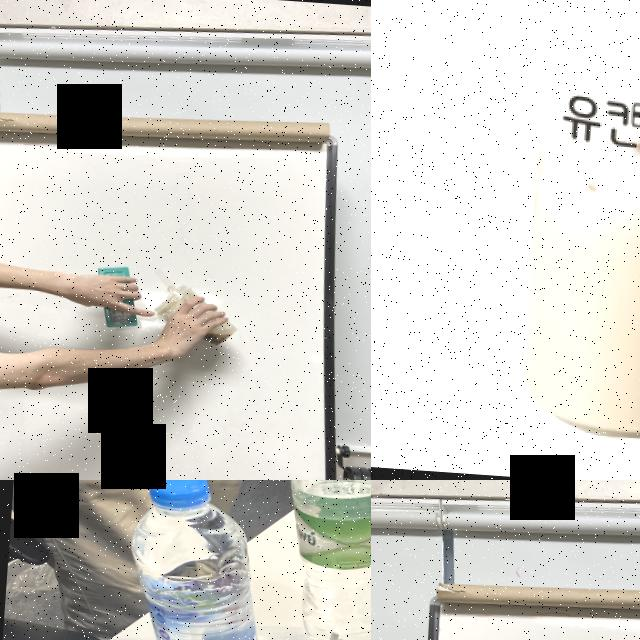bottle: (112, 480, 287, 640), (279, 480, 371, 640)
can: (510, 0, 640, 454)
cup: (149, 282, 242, 349)
